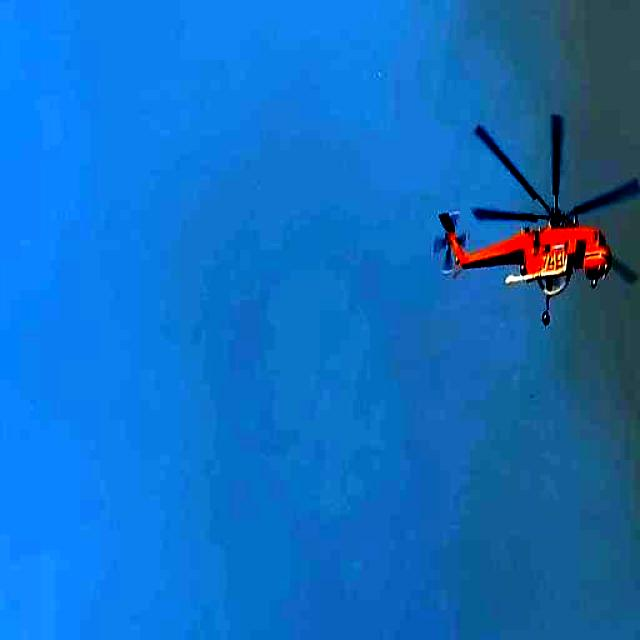drone: (430, 101, 640, 332)
